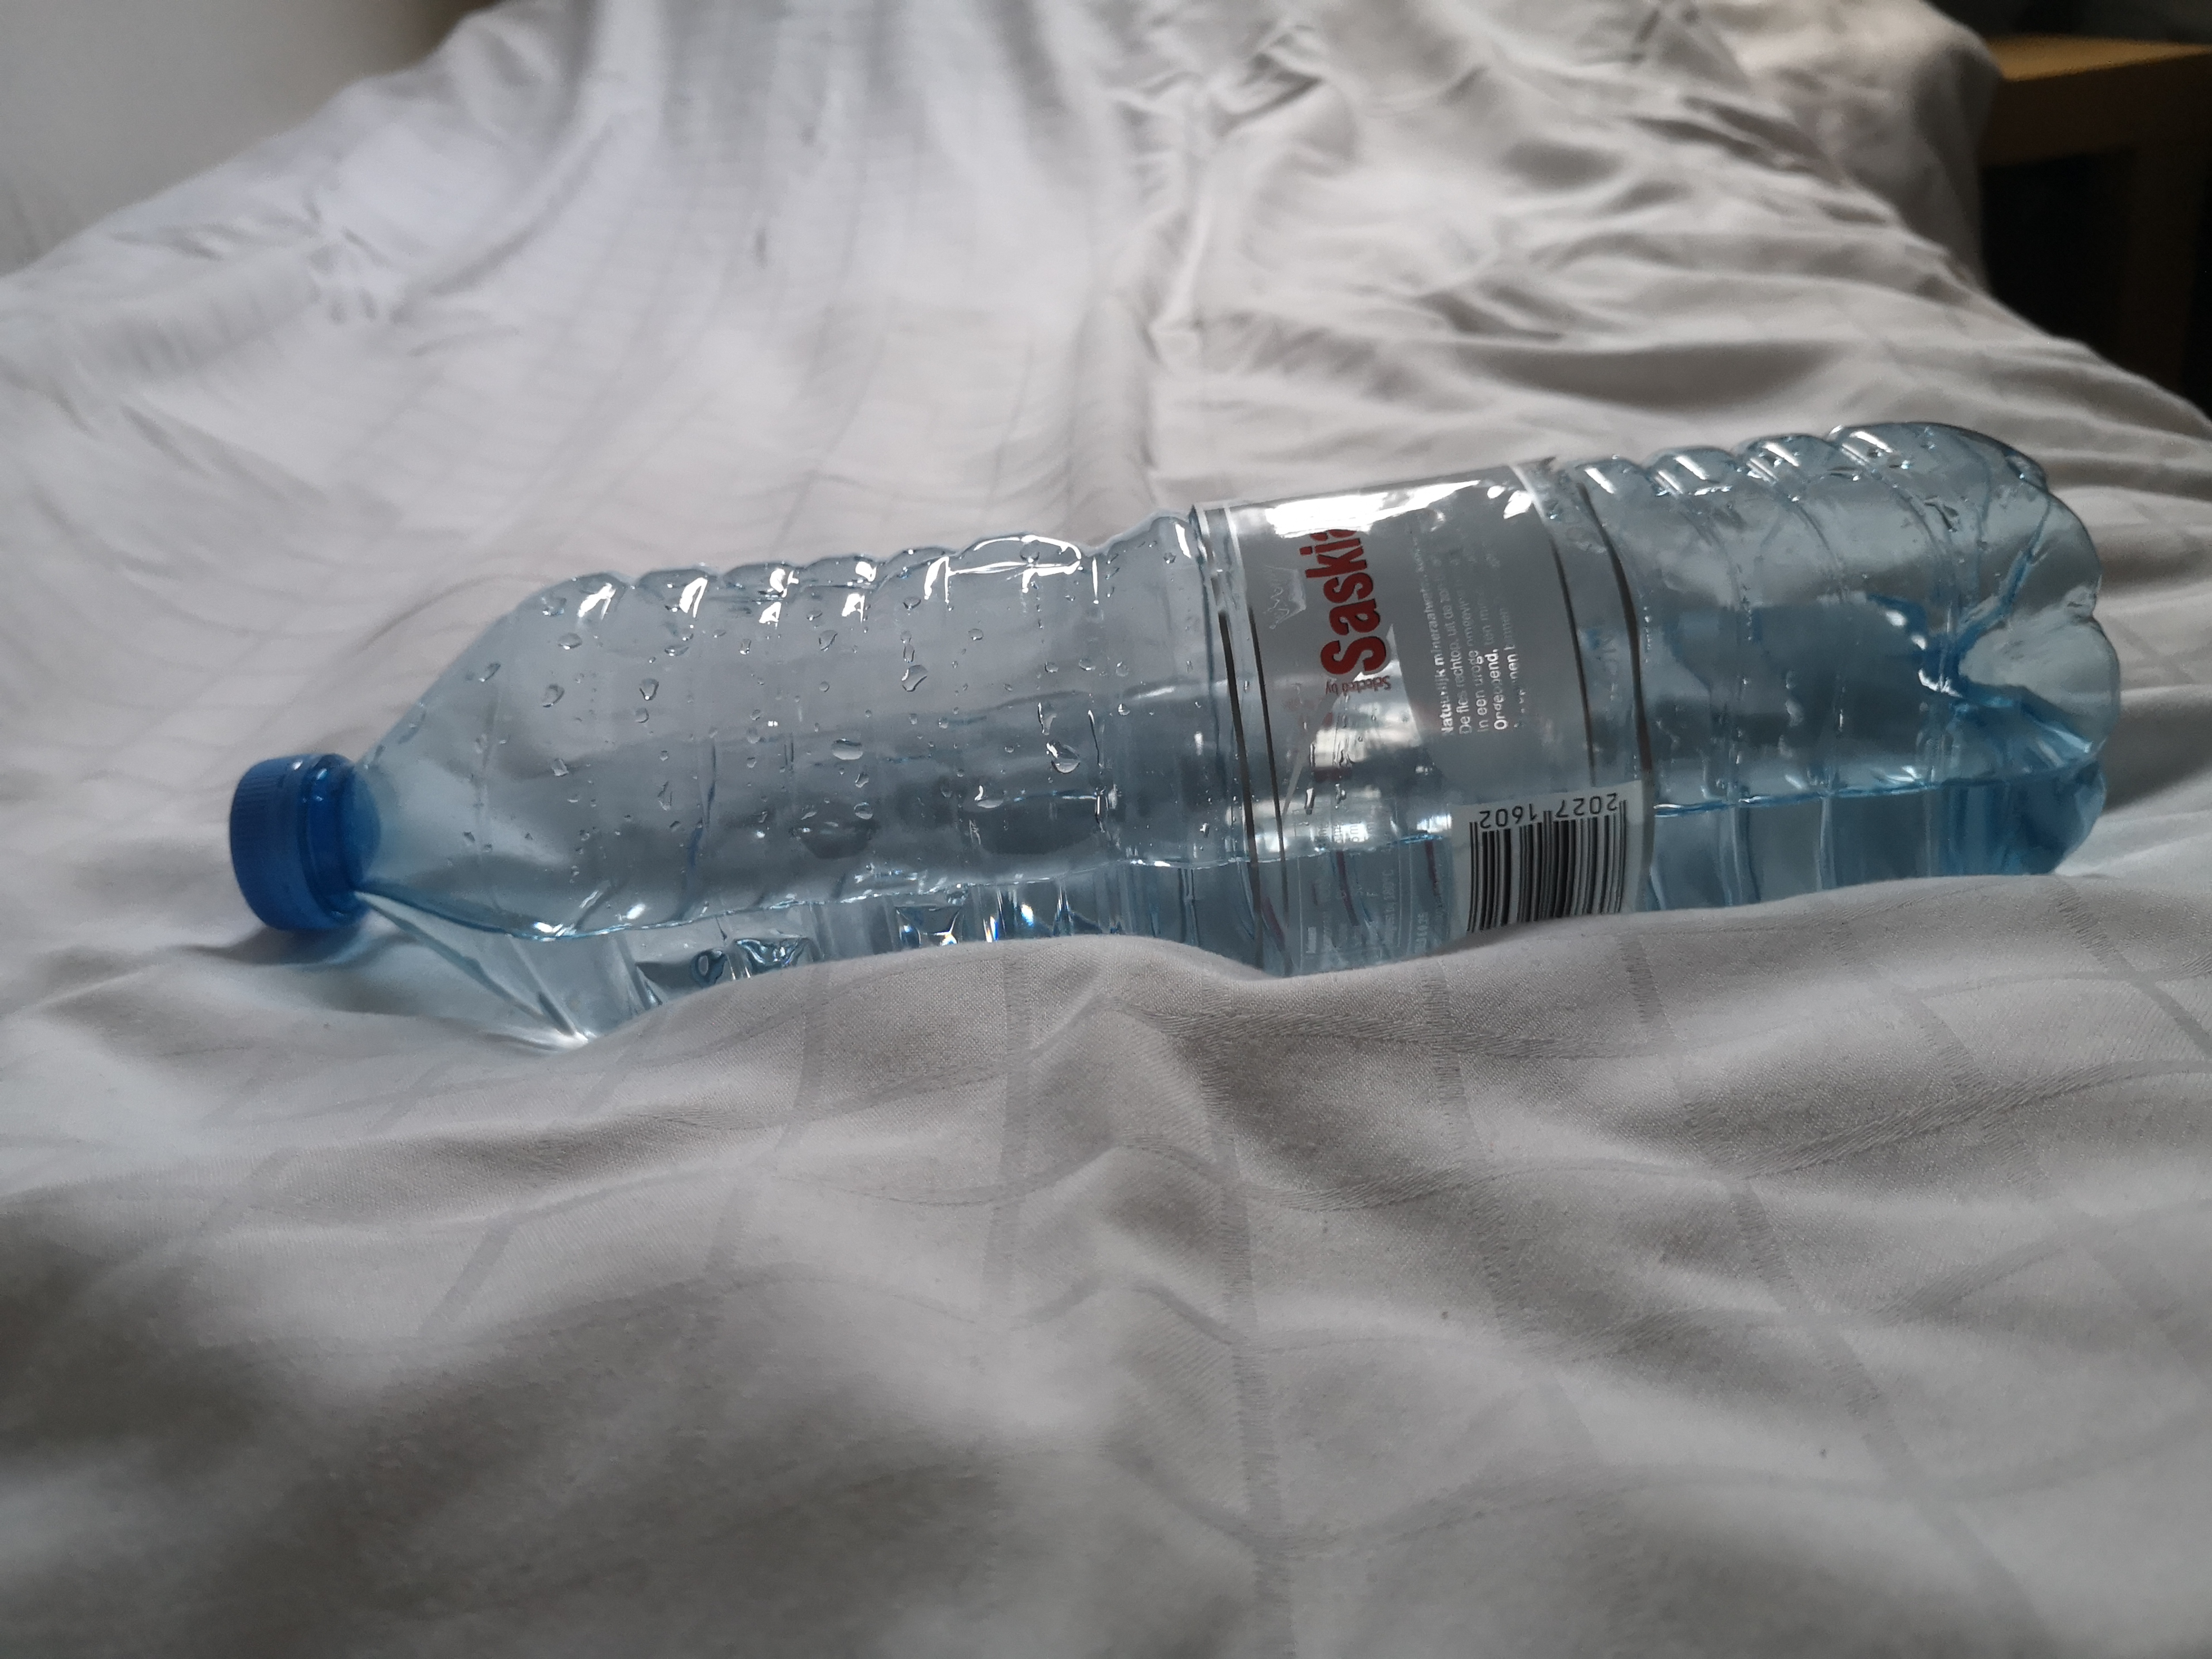plastic_bottle: (197, 387, 2160, 1072)
